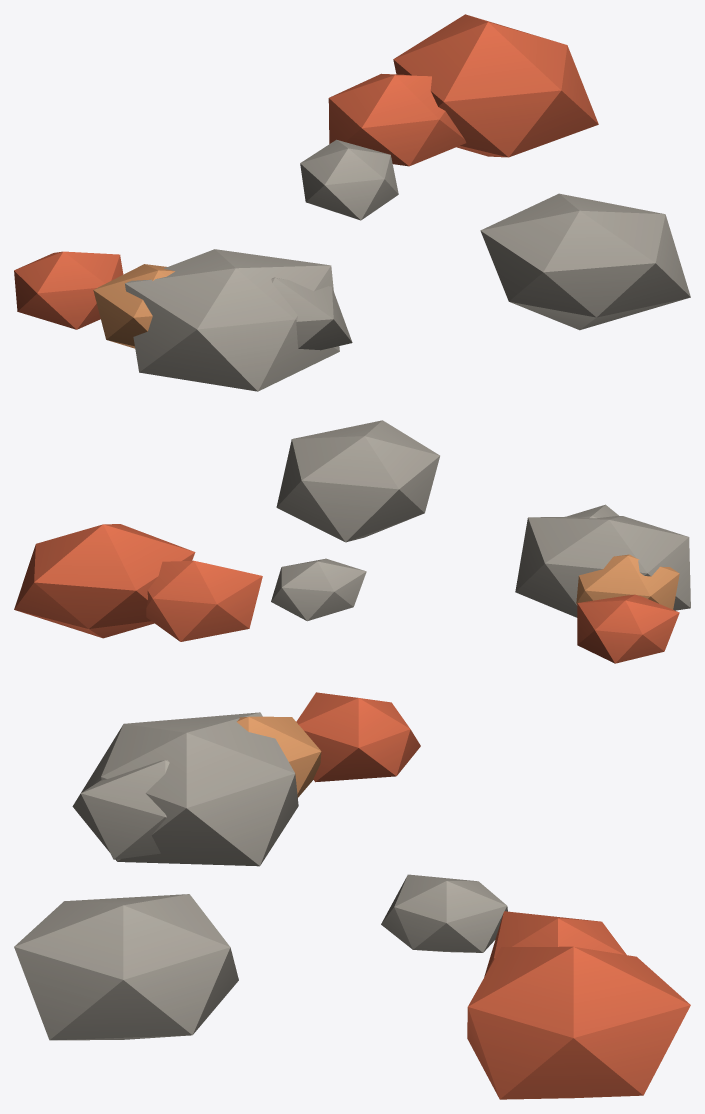
Rendered from deposit_clay.glb.
3 views of the same model, one above another, from view 1: azimuth 30°, elevation 25°; view 2: azimuth 150°, elevation 25°; view 3: azimuth 270°, elevation 25° (orthographic). The views are drawn at different scales.
Visible parts, largest first — view 1: deposit_clay; view 2: deposit_clay; view 3: deposit_clay.
Boxes of the visible parts, left/top/right/bottom form: deposit_clay: left=14, top=14, right=690, bottom=391; deposit_clay: left=14, top=420, right=690, bottom=663; deposit_clay: left=14, top=692, right=690, bottom=1099.
Bounding box in the file's own units: 1.87 × 0.375 × 1.51.
1 material, 1 textured.
